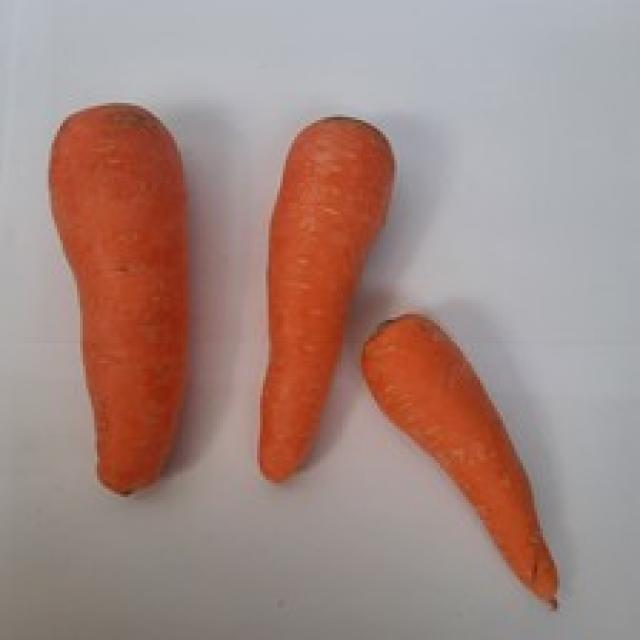Fresh_Carrot: (364, 319, 558, 611), (53, 102, 189, 504), (260, 121, 397, 482)
